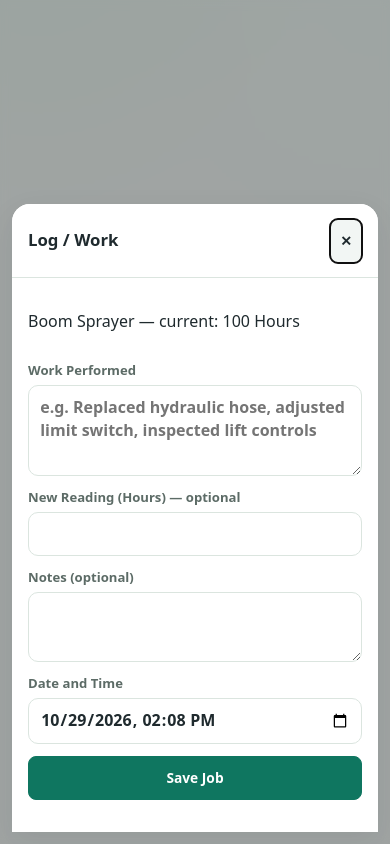
WorkLogSheet › requires Work Performed and does not submit without it
The width and height of the screenshot is (390, 844).
Click the button "Save Job".
click(195, 778)  # box [28,756,362,800]
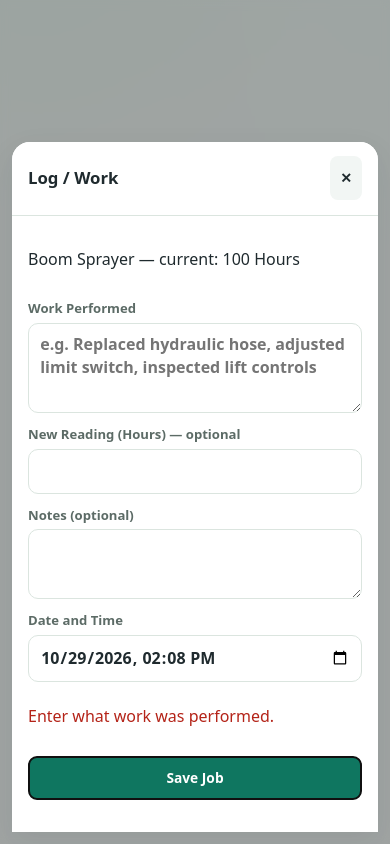
Expected: the text "Enter what work was performed." is shown, [28,705,274,727]
